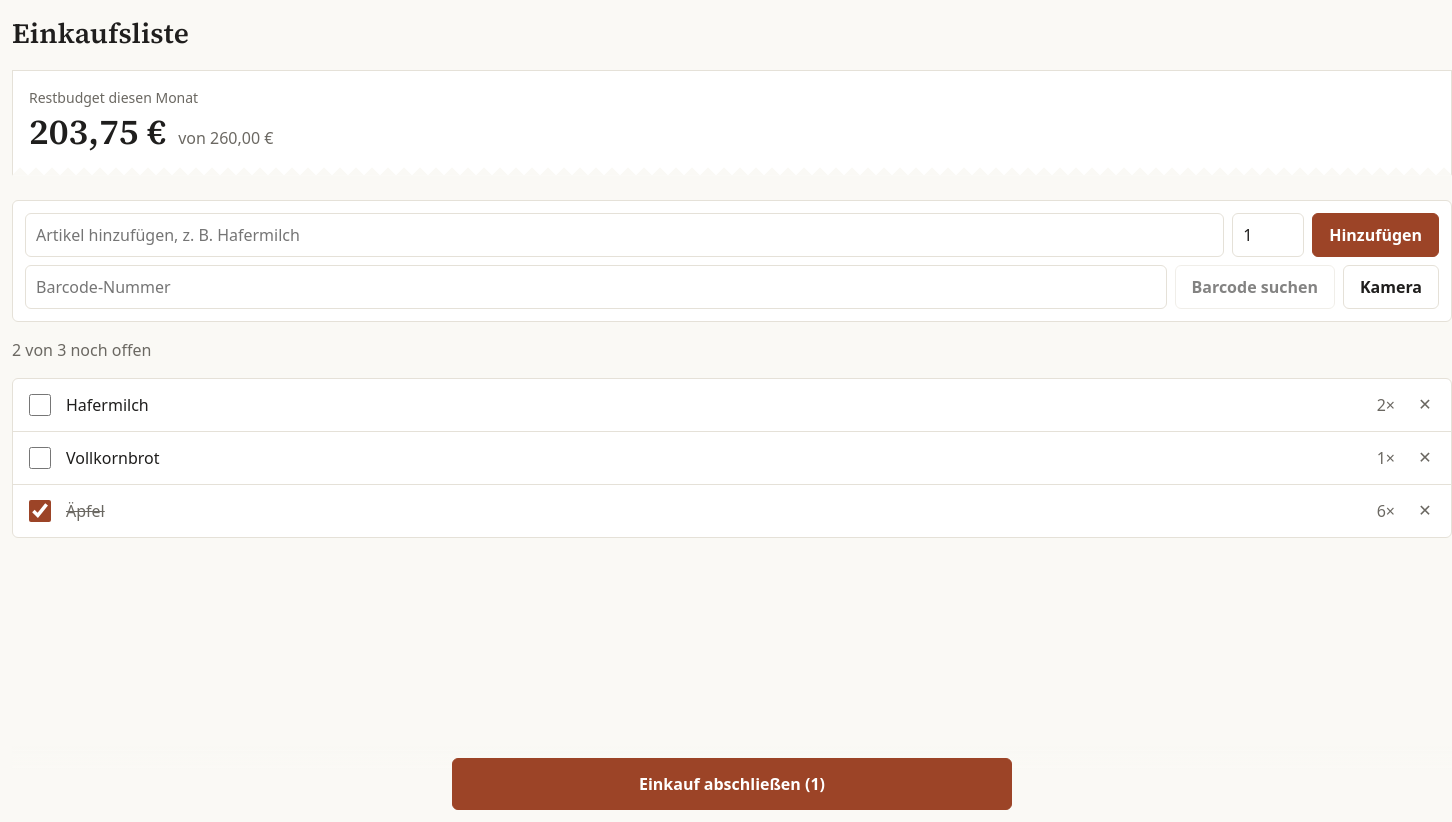
it: ShoppingListView › speichert das Abhaken per PATCH und aktualisiert den Zähler
Click the checkbox labelled "Hafermilch".
click(40, 405)  # box [29,394,51,416]
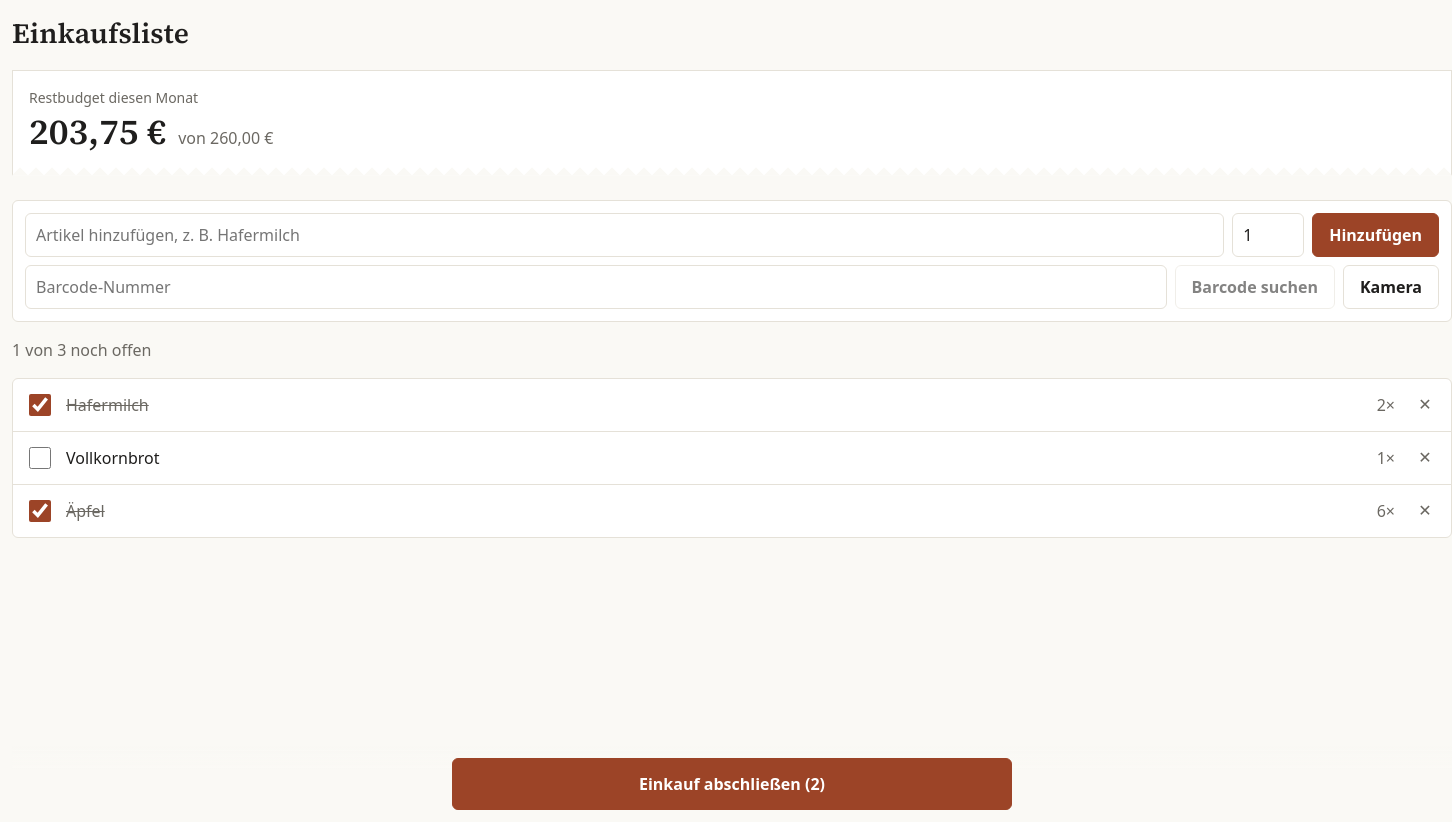
Check: the text with class "summary" reads "1 von 3 noch offen", box [12,339,151,361]
